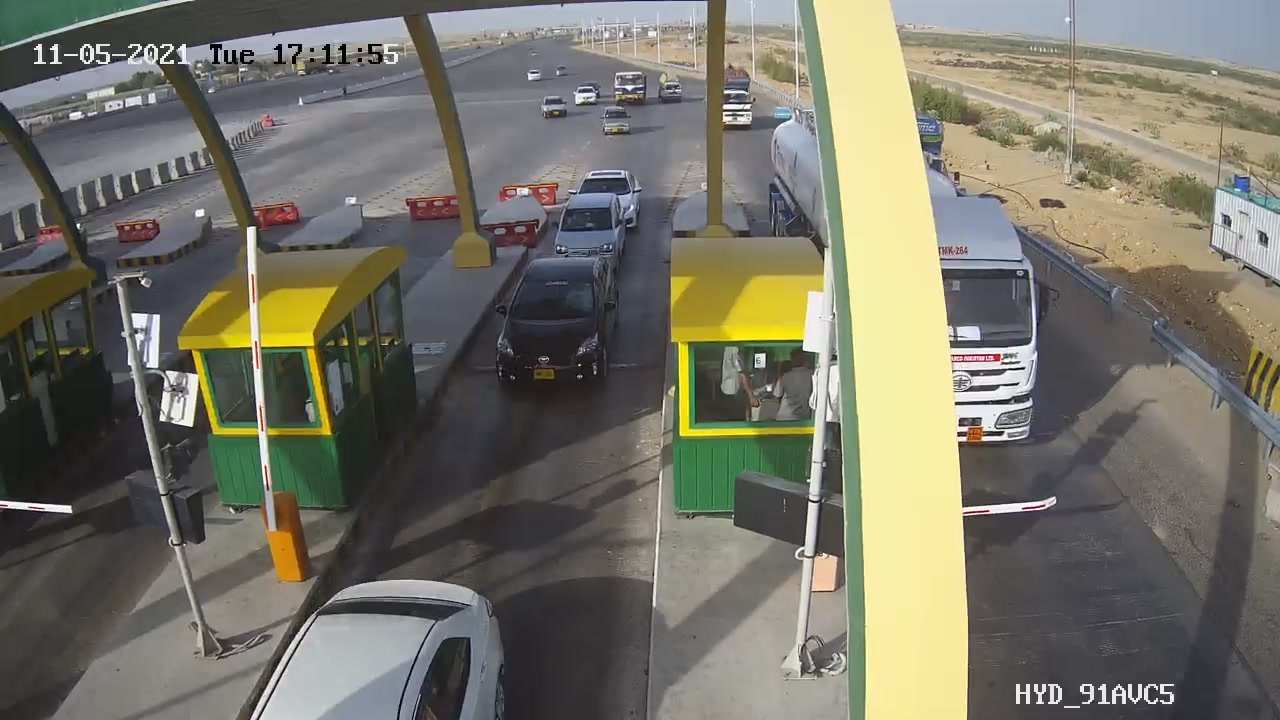F1: (476, 246, 638, 403)
